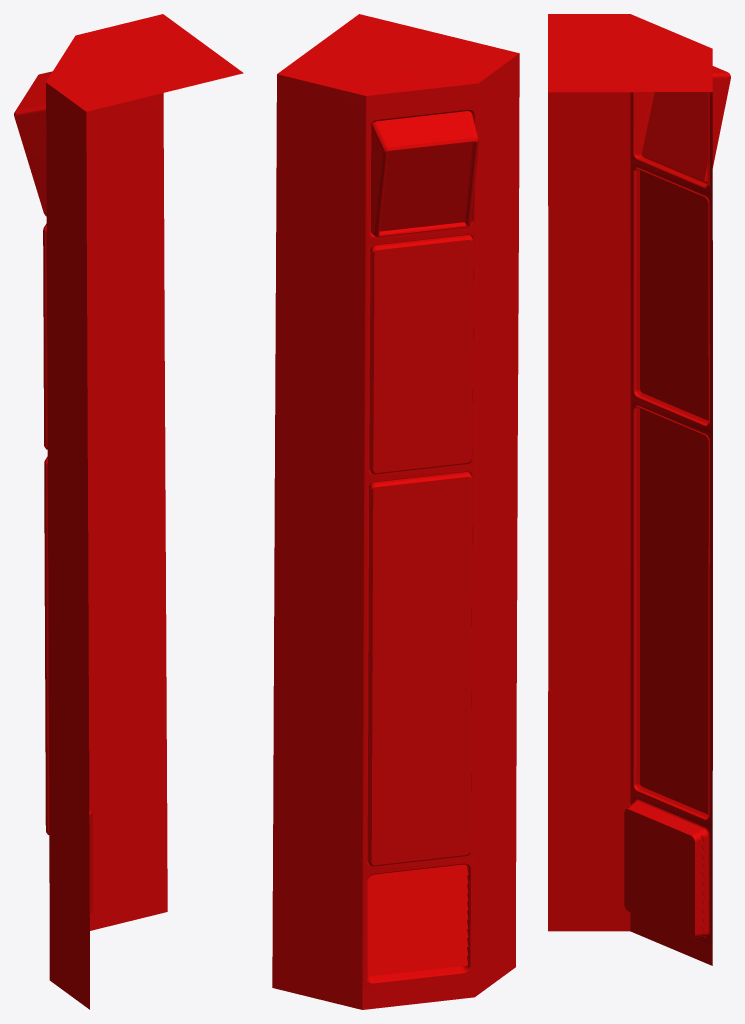
Rendered from Wall_5.fbx.
The picture shows the model from 3 angles, left to right: view 1: azimuth 30°, elevation 25°; view 2: azimuth 150°, elevation 25°; view 3: azimuth 270°, elevation 25°; orthographic projection.
Visible parts, largest first — view 1: L15:polySurface428; view 2: L15:polySurface428; view 3: L15:polySurface428.
Part boxes in pixels (x1,y1,x2,y2): L15:polySurface428: (14, 14, 243, 1009); L15:polySurface428: (272, 14, 519, 1009); L15:polySurface428: (548, 14, 730, 965).
Bounding box in the file's own units: 157 × 761 × 138.
